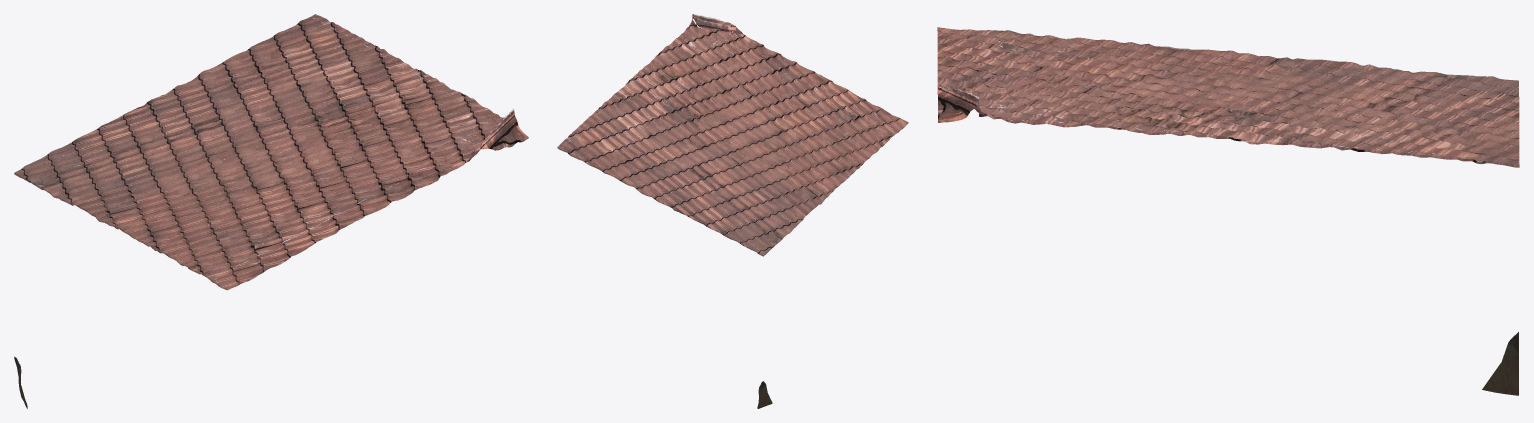
3 renders of one model, left to right at view 1: azimuth 30°, elevation 25°; view 2: azimuth 150°, elevation 25°; view 3: azimuth 270°, elevation 25°, orthographic. The views are drawn at different scales.
Visible parts, largest first — view 1: node_186; view 2: node_186; view 3: node_186.
Boxes of the visible parts, <box> form: node_186: <box>14,14,528,408</box>; node_186: <box>557,14,908,408</box>; node_186: <box>937,27,1519,395</box>.
Bounding box in the file's own units: 4.5 × 5.15 × 5.5.
Materials: 1 (1 with a texture image).
